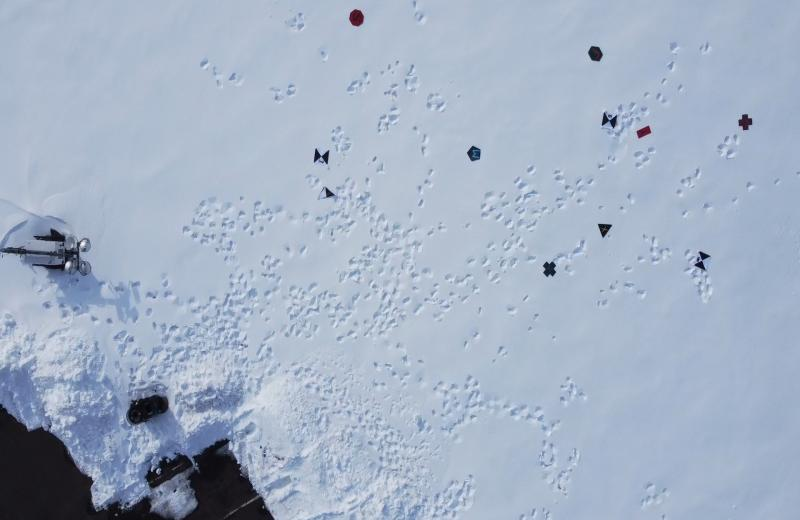Cross: (542, 260, 559, 279), (738, 113, 754, 131)
Hexagon: (587, 44, 603, 64)
Octagon: (347, 8, 366, 27)
Pentagon: (464, 144, 482, 164)
Rectangle: (635, 125, 652, 138)
Triangle: (597, 219, 613, 240)
